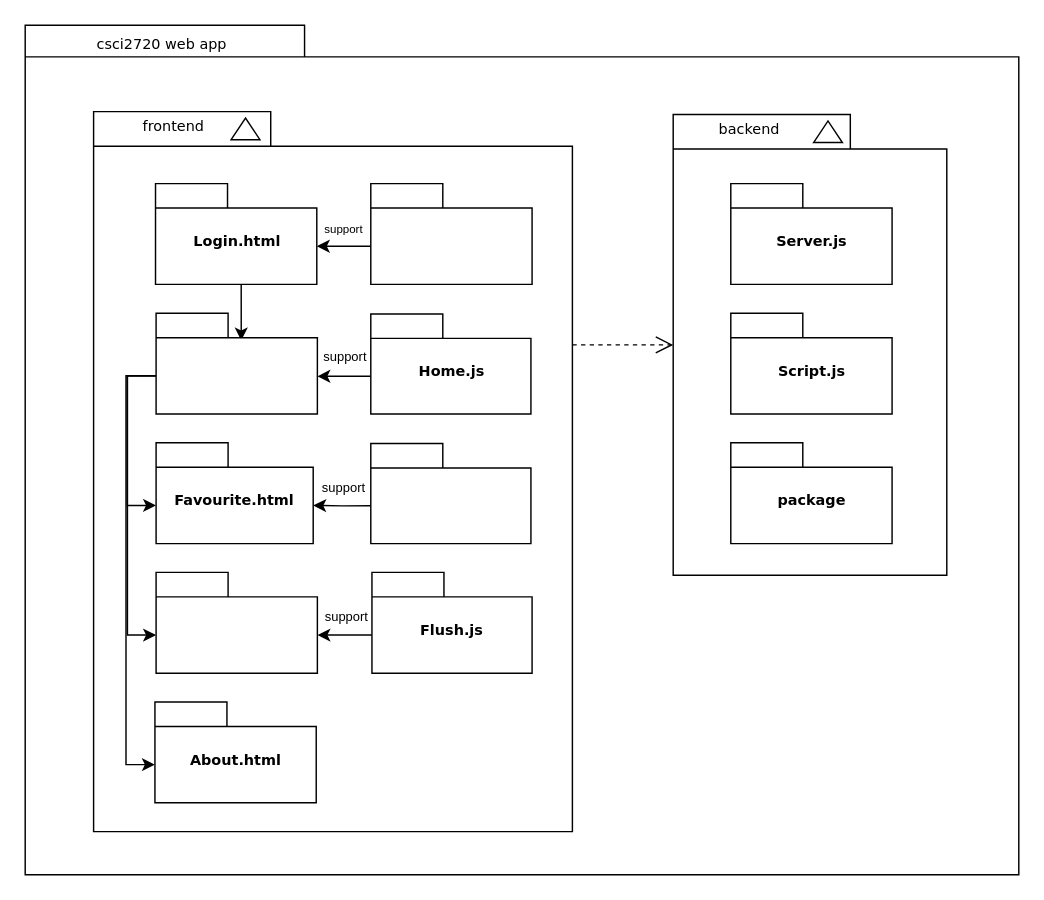
Some shapes in this 1044 by 900 pixel diagram are drawn without their labels. Here are the shapes that lost their labels. From the top down, the centre of each, then its label:
(x=450, y=233): Login.js
(x=236, y=363): Home.html
(x=450, y=493): Favourite.js
(x=236, y=622): Flush.html
